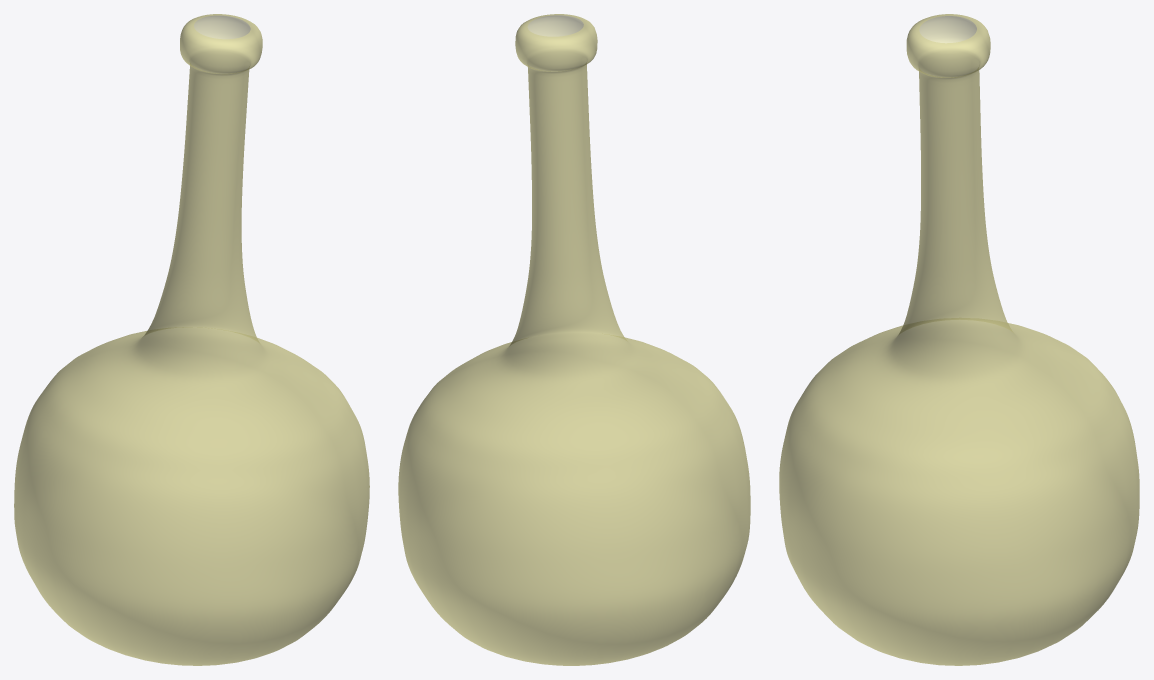
Rendered from Bottle_Yellow.glb.
3 views of the same model, side by side, from view 1: azimuth 30°, elevation 25°; view 2: azimuth 150°, elevation 25°; view 3: azimuth 270°, elevation 25° (orthographic). The views are drawn at different scales.
Parts seen in each view (by area): view 1: Bottle_Yellow; view 2: Bottle_Yellow; view 3: Bottle_Yellow.
Boxes of the visible parts, x1,y1,x2,y2 form: Bottle_Yellow: (14, 14, 369, 665); Bottle_Yellow: (398, 14, 750, 665); Bottle_Yellow: (779, 14, 1139, 665).
Size of the model in its own units: 0.1683 by 0.32 by 0.168.
